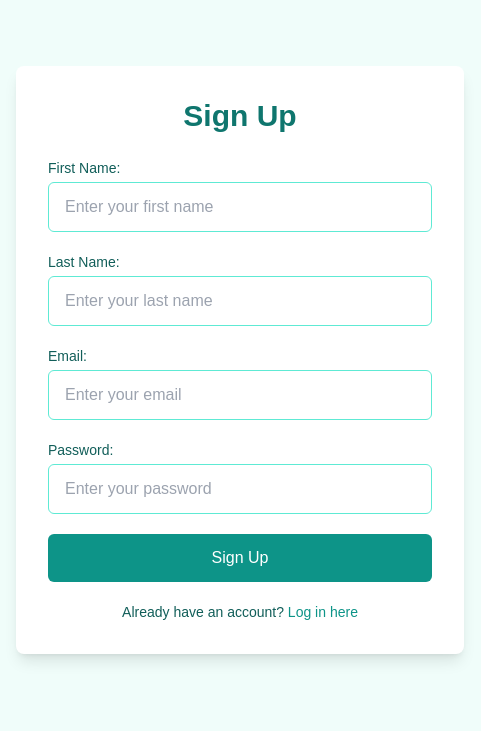
Test: SignUp Component › shows validation errors for empty fields
Click the button "Sign Up": x=240, y=558 [48, 534, 432, 582]
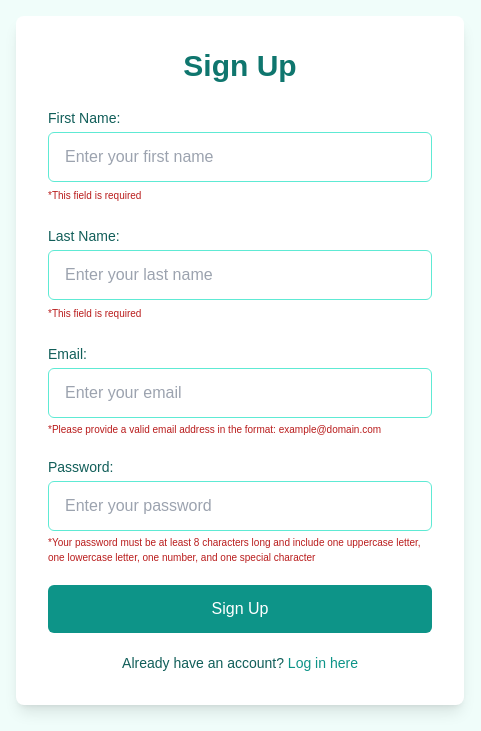
Expected: the text "*This field is required" is shown 2 times, [48, 188, 141, 202]; [48, 306, 141, 320]
Expected: the text "*Please provide a valid email address in the format: example@domain.com" is shown, [48, 422, 432, 436]
Expected: the text "*Your password must be at least 8 characters long and include one uppercase letter, one lowercase letter, one number, an" is shown, [48, 536, 421, 562]
